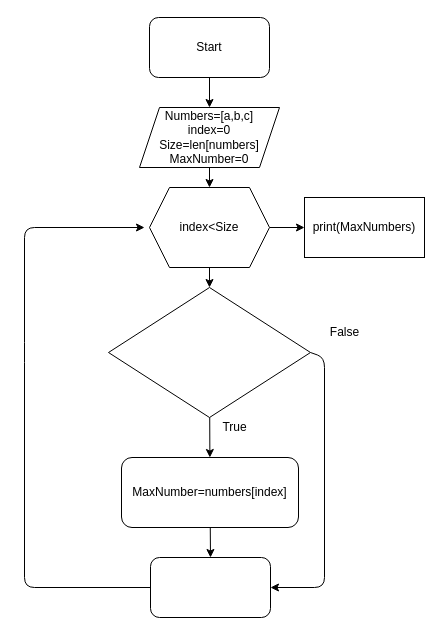
Some shapes in this 442 by 635 pixel diagram are drawn without their labels. The centre of each missing label's shape, as x and y in pixels:
"index=Index+1" belongs at (x=210, y=587).
"numbers[index]>MaxNumber" belongs at (x=209, y=352).
